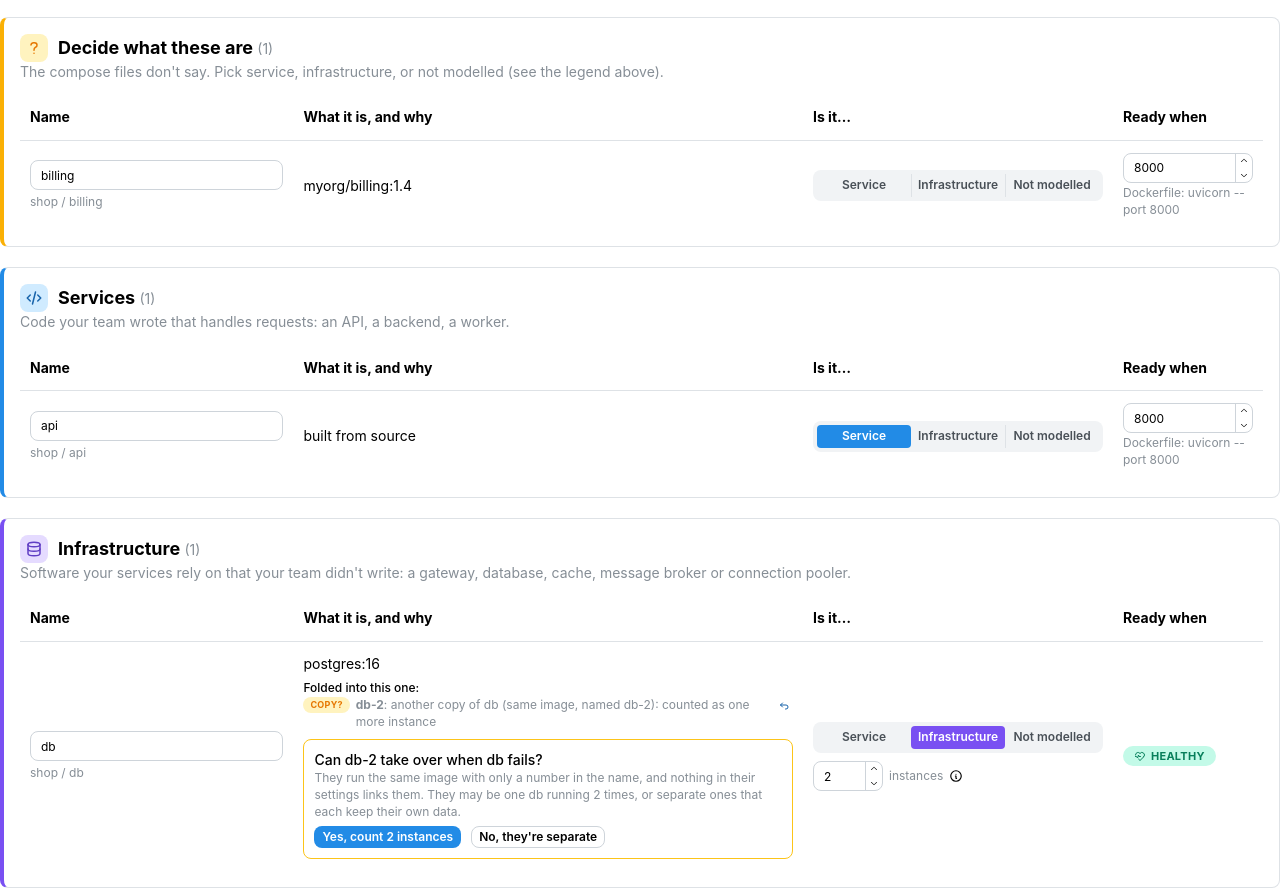
it: ComponentsStep › asks whether numbered copies take over for each other before counting them
This screenshot has width=1280, height=888.
Later steps or results of the test are not shown.
(page scrolled)
Expected: the text "Can db-2 take over when db fails?" is shown, [314,751,543,768]
Click the button "Yes, count 2 instances" at (388, 837), box [314,826,461,848]
(page scrolled)
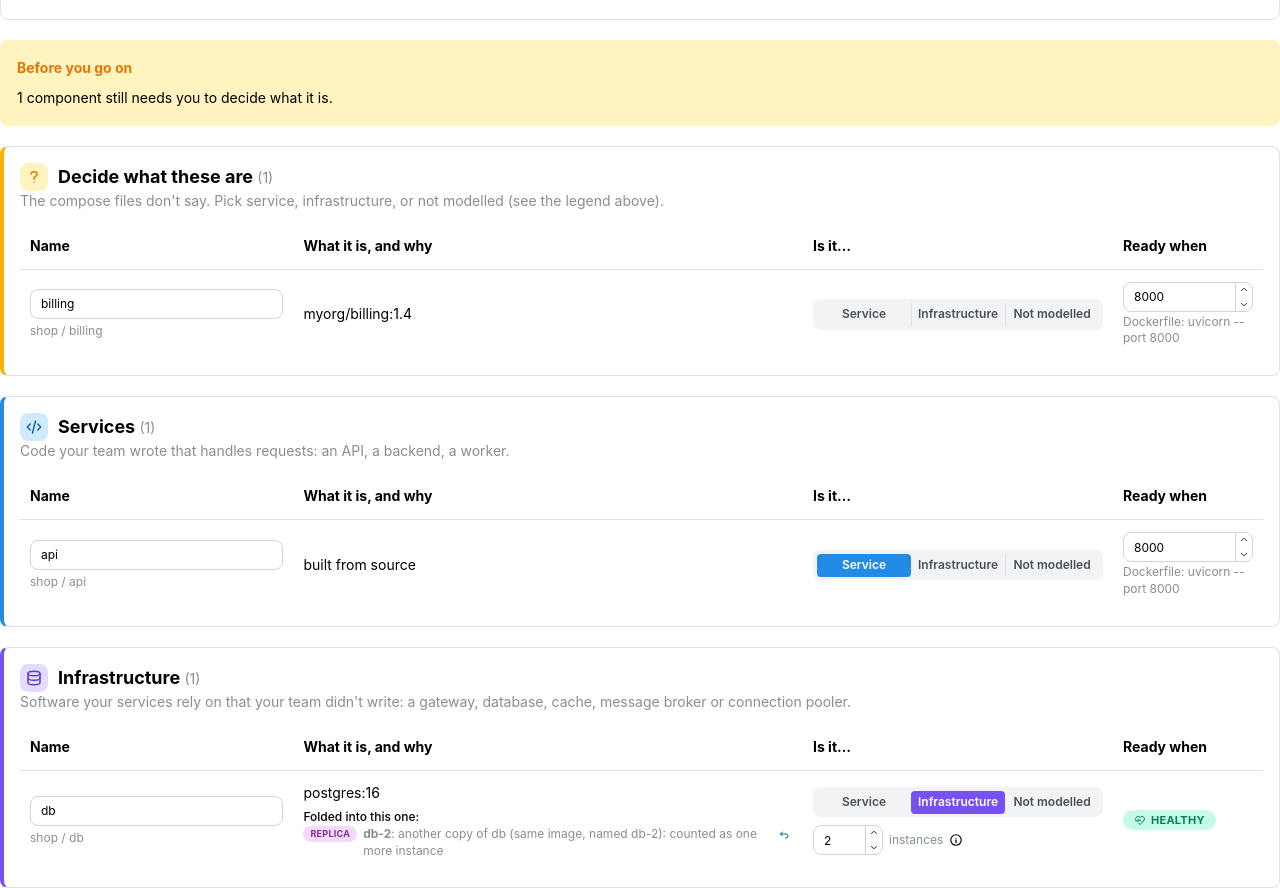
Expected: the text "Can db-2 take over when db fails?" is gone
